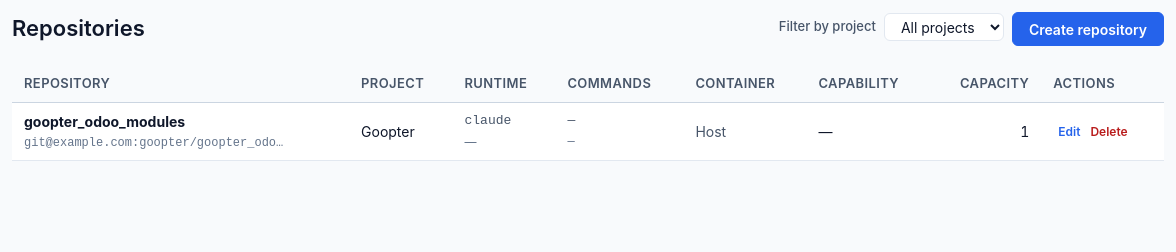
RepositoriesPanel › delete › on a 409 the row stays and an inline message shows the reason and task count
Expected: the text "goopter_odoo_modules" is shown, x1=24 y1=112 x2=185 y2=130
Click the button with aria-label "Delete goopter_odoo_modules".
click(1109, 131)  # box x1=1085 y1=119 x2=1133 y2=143
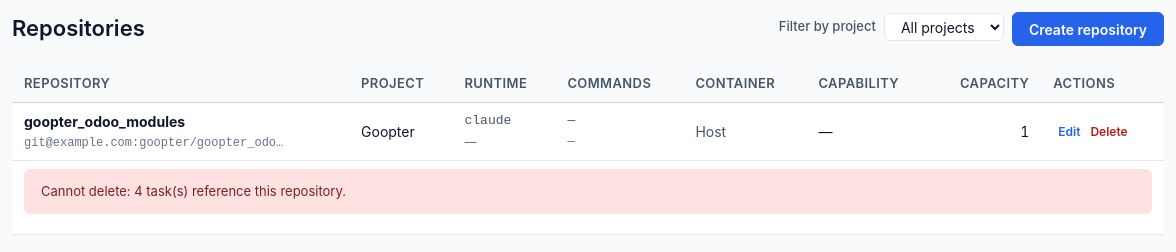
Expected: the text "goopter_odoo_modules" is shown, x1=24 y1=112 x2=185 y2=130
Expected: the message with test id "delete-error-repo-1" reads "Cannot delete: 4 task(s) reference this repository.", x1=41 y1=182 x2=346 y2=198
